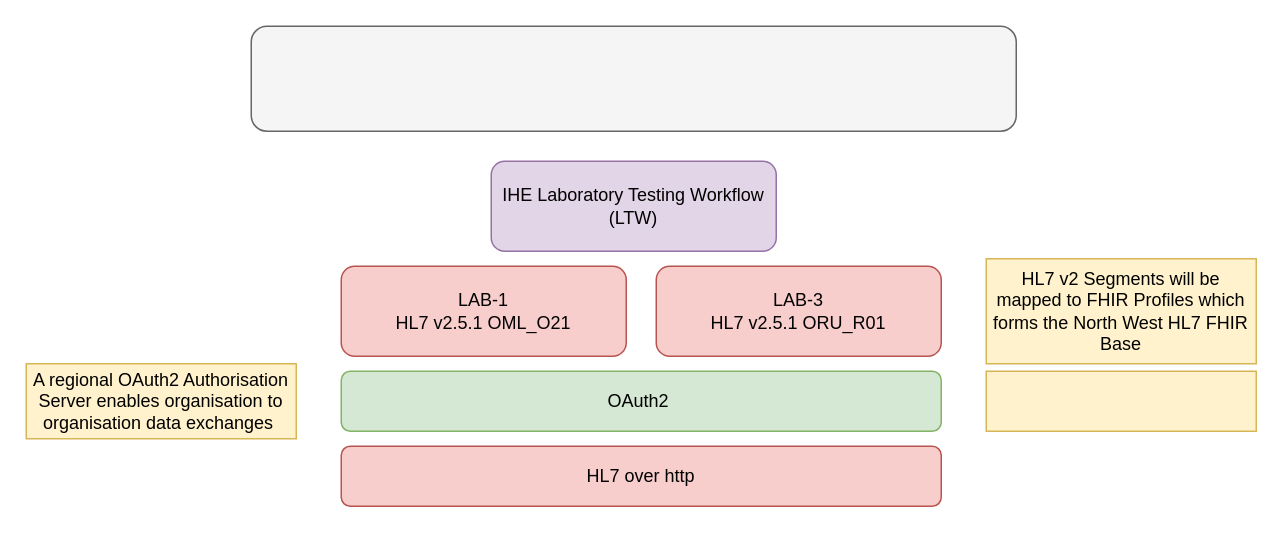
Image size: 1283x533. Some labels were removed from this diagram. The box of each missing label's shape, as (x1, y1, x2, y2) in pixels:
The NW Base will extend HL7 UK Core: (985, 370, 1256, 431)
Traditional Send Genomic Order/ Report: (250, 25, 1016, 131)
